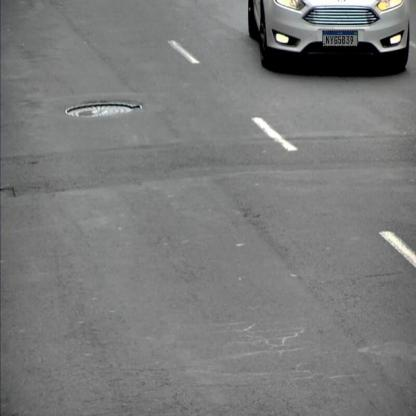PlacaM: (322, 30, 358, 46)
